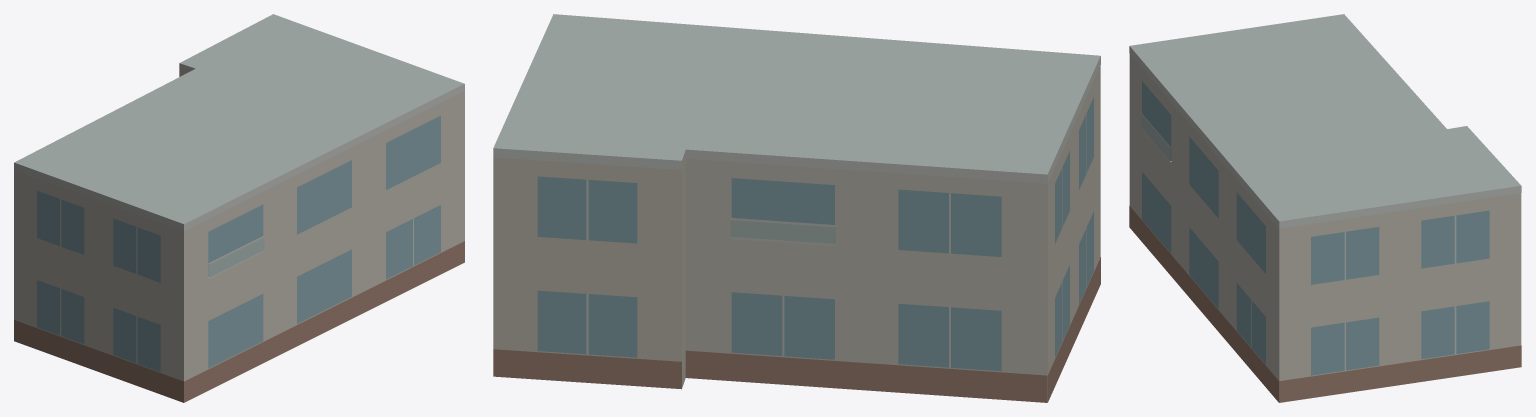
Rendered from survey-upis-32537818.glb.
3 views of the same model, side by side, from view 1: azimuth 30°, elevation 25°; view 2: azimuth 150°, elevation 25°; view 3: azimuth 270°, elevation 25° (orthographic). The views are drawn at different scales.
Parts seen in each view (by area): view 1: survey-upis-32537818.tmp; view 2: survey-upis-32537818.tmp; view 3: survey-upis-32537818.tmp.
Boxes of the visible parts, box(x1,y1,x2,y2) form: survey-upis-32537818.tmp: box(14, 14, 464, 402); survey-upis-32537818.tmp: box(493, 14, 1100, 402); survey-upis-32537818.tmp: box(1129, 14, 1521, 402).
Bounding box in the file's own units: 14.97 × 6.1 × 11.96.
